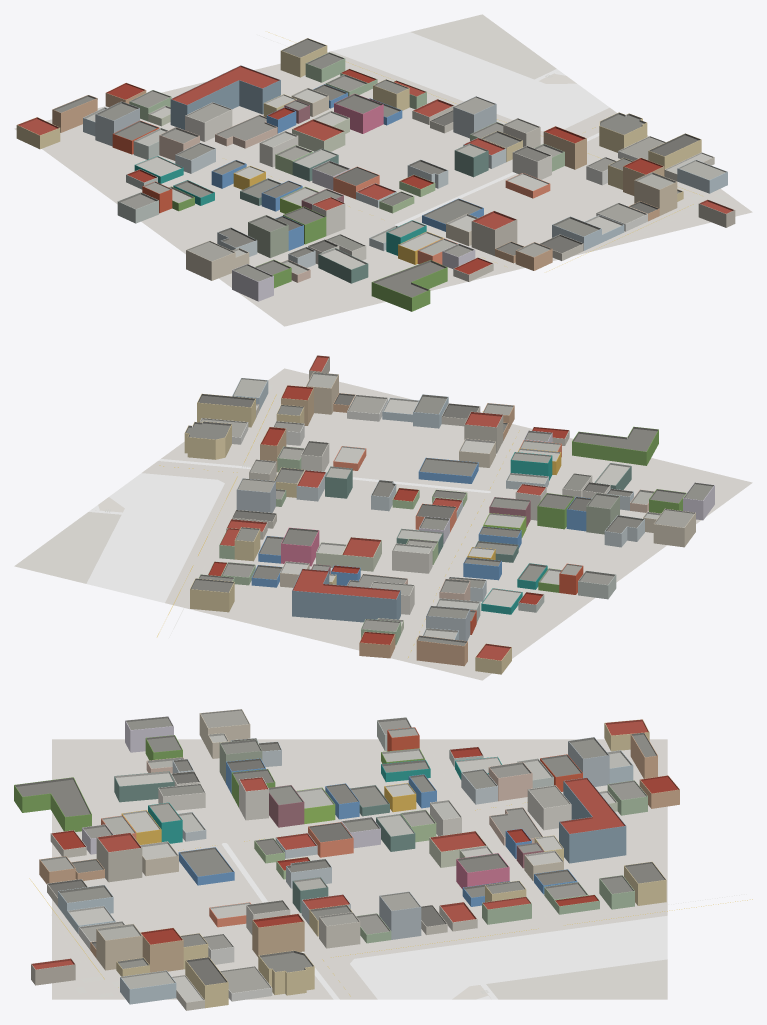
3 renders of one model, top to bottom at view 1: azimuth 30°, elevation 25°; view 2: azimuth 150°, elevation 25°; view 3: azimuth 270°, elevation 25°, orthographic. The views are drawn at different scales.
Parts seen in each view (by area): view 1: walls, ground, roofs, grass, concrete; view 2: ground, roofs, walls, grass, concrete; view 3: ground, walls, roofs, grass, markings, concrete.
Part boxes in pixels (bbox=[...]): walls: bbox=[16, 45, 735, 311]; ground: bbox=[14, 14, 752, 326]; roofs: bbox=[17, 38, 734, 297]; grass: bbox=[332, 32, 609, 131]; concrete: bbox=[395, 69, 599, 225]; ground: bbox=[14, 368, 752, 680]; roofs: bbox=[185, 355, 714, 660]; walls: bbox=[184, 357, 714, 674]; grass: bbox=[86, 473, 224, 602]; concrete: bbox=[88, 459, 490, 514]; ground: bbox=[52, 739, 667, 999]; walls: bbox=[14, 713, 679, 1010]; roofs: bbox=[14, 709, 679, 1002]; grass: bbox=[350, 915, 667, 999]; markings: bbox=[29, 745, 752, 997]; concrete: bbox=[222, 843, 497, 999].
Size of what is drawn, in the model's own units: 269 by 13.38 by 300.
